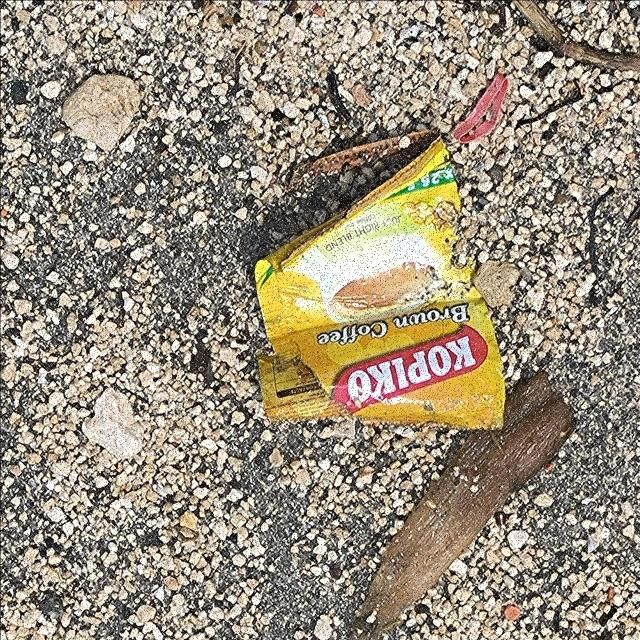plastic_waste: (252, 127, 507, 433)
